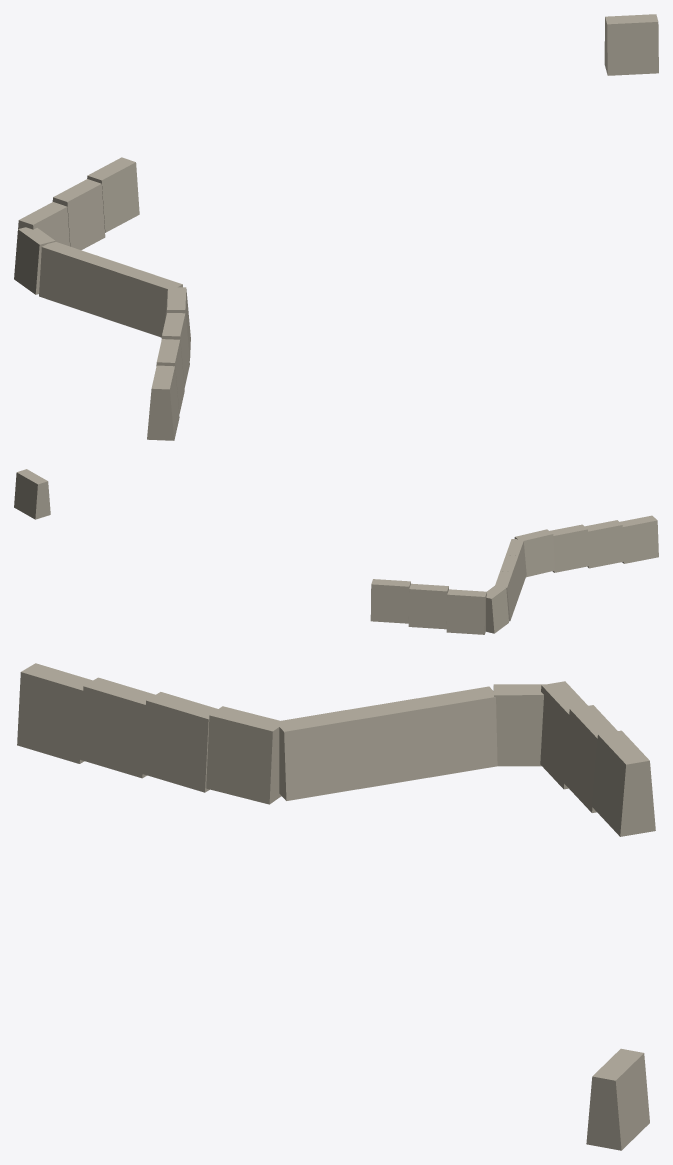
File: bormla_62_33_far.glb
The picture shows the model from 3 angles, top to bottom: view 1: azimuth 30°, elevation 25°; view 2: azimuth 150°, elevation 25°; view 3: azimuth 270°, elevation 25°; orthographic projection. The views are drawn at different scales.
Parts seen in each view (by area): view 1: geometry_0; view 2: geometry_0; view 3: geometry_0.
Boxes of the visible parts, x1,y1,x2,y2 form: geometry_0: (14,14,658,440); geometry_0: (14,469,658,634); geometry_0: (17,663,655,1150).
Bounding box in the file's own units: 180 × 23.76 × 99.89.
